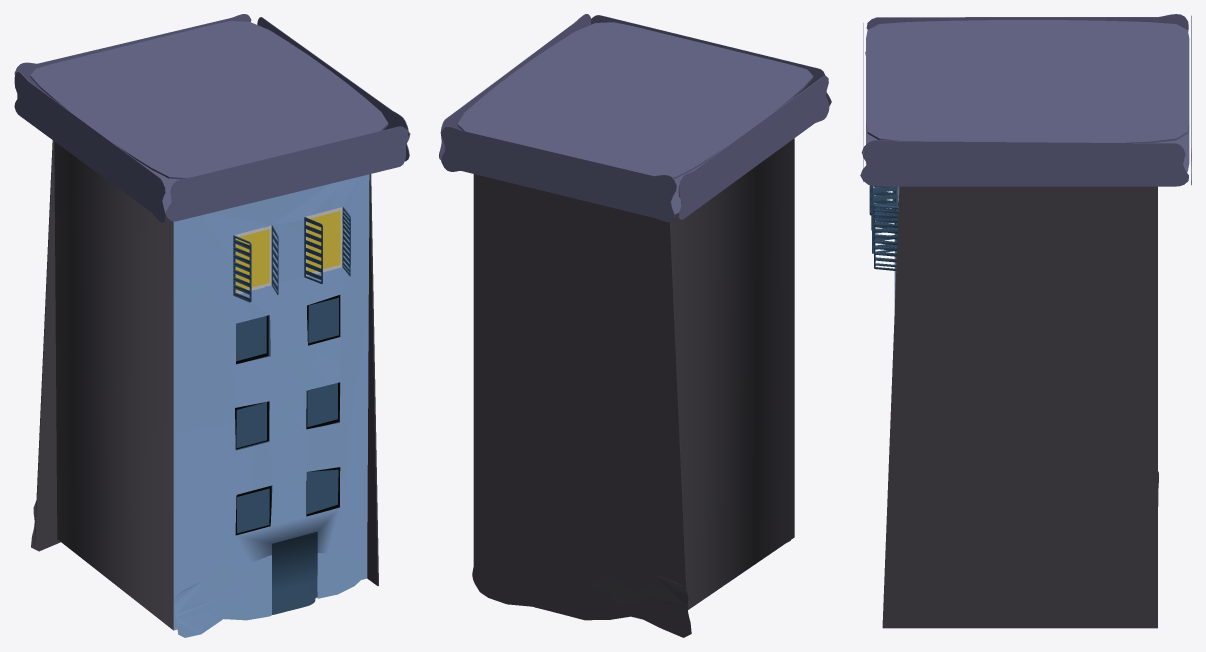
The model's file is Palazzo Lungo.fbx.
The picture shows the model from 3 angles, left to right: view 1: azimuth 30°, elevation 25°; view 2: azimuth 150°, elevation 25°; view 3: azimuth 270°, elevation 25°; orthographic projection. The views are drawn at different scales.
Parts seen in each view (by area): view 1: Palazzo; view 2: Palazzo; view 3: Palazzo.
Part boxes in pixels (x1=…): Palazzo: x1=14, y1=14, x2=410, y2=637; Palazzo: x1=439, y1=14, x2=831, y2=637; Palazzo: x1=860, y1=14, x2=1191, y2=628.
Size of the model in its own units: 69.87 by 133 by 76.56.
